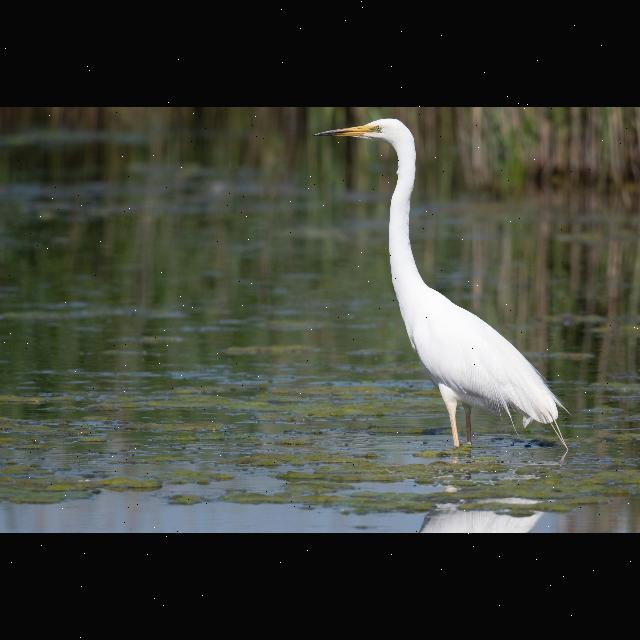egret: (313, 116, 572, 454)
